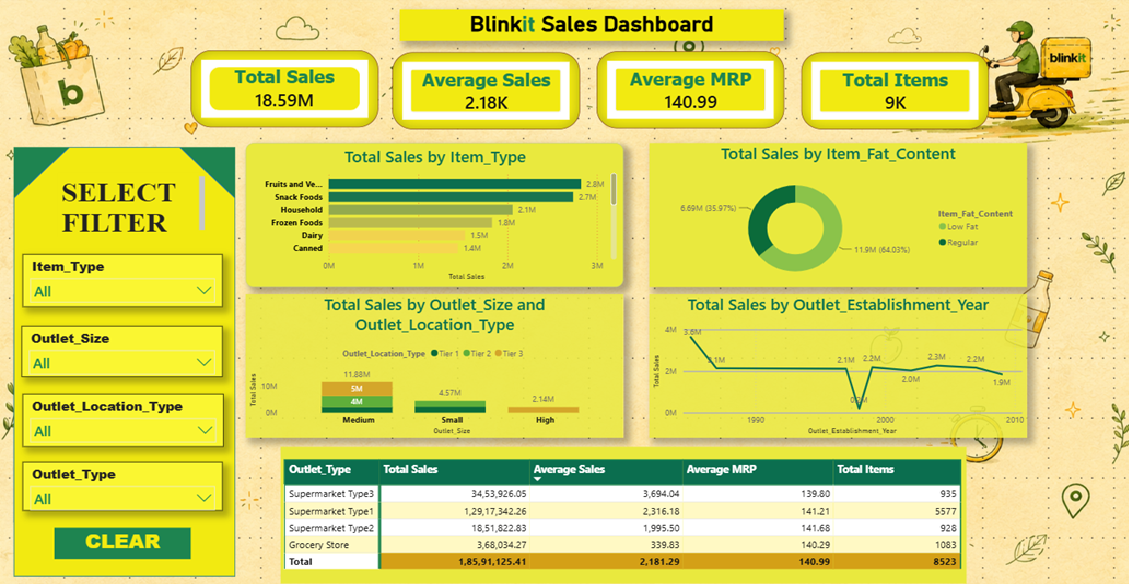

The dashboard page shown, as its layout file describes it:
{"tool":"powerbi","page":{"name":"Page 1","canvas":[1664,948],"ordinal":0},"visuals":[{"type":"cardVisual","fields":{"Data":["Measures (2).Total Sales"]},"box":[283.2,83.2,274,123.1],"z":1000},{"type":"textbox","box":[588.6,17.3,561.8,50.4],"z":2000},{"type":"cardVisual","fields":{"Data":["Measures (2).Average Sales"]},"box":[577.6,86.6,274.5,123.1],"z":3000},{"type":"cardVisual","fields":{"Data":["Measures (2).Average MRP"]},"box":[876.8,84.8,274,123.1],"z":4000},{"type":"cardVisual","fields":{"Data":["Measures (2).Total Items"]},"box":[1176,86.4,274,123],"z":5000},{"type":"clusteredBarChart","fields":{"Category":["Blinkit_cleaned.Item_Type"],"Y":["Measures (2).Total Sales"]},"box":[363.2,232,553,230],"z":6000},{"type":"donutChart","fields":{"Category":["Blinkit_cleaned.Item_Fat_Content"],"Y":["Measures (2).Total Sales"]},"box":[953.6,232,553,230],"z":7000},{"type":"columnChart","fields":{"Category":["Blinkit_cleaned.Outlet_Size"],"Series":["Blinkit_cleaned.Outlet_Location_Type"],"Y":["Measures (2).Total Sales"]},"box":[363.2,473.6,553,230],"z":8000},{"type":"lineChart","fields":{"Category":["Blinkit_cleaned.Outlet_Establishment_Year"],"Y":["Measures (2).Total Sales"]},"box":[953.6,473.6,553,230],"z":9000},{"type":"pivotTable","fields":{"Rows":["Blinkit_cleaned.Outlet_Type"],"Values":["Measures (2).Total Sales","Measures (2).Average Sales","Measures (2).Average MRP","Measures (2).Total Items"]},"box":[414.4,718.4,1003.2,219.2],"z":10000},{"type":"shape","box":[23.6,237.6,324.2,687.7],"z":11000},{"type":"slicer","fields":{"Values":["Blinkit_cleaned.Outlet_Size"]},"box":[34.6,524.1,294.3,81.8],"z":12000},{"type":"slicer","fields":{"Values":["Blinkit_cleaned.Item_Type"]},"box":[36.2,409.2,292.7,85],"z":13000},{"type":"slicer","fields":{"Values":["Blinkit_cleaned.Outlet_Location_Type"]},"box":[36.2,634.2,294.3,85],"z":14000},{"type":"slicer","fields":{"Values":["Blinkit_cleaned.Outlet_Type"]},"box":[36.2,742.8,292.7,78.7],"z":15000},{"type":"textbox","box":[88.1,280.1,220.3,102.3],"z":16000},{"type":"actionButton","title":"CLEAR","box":[83.2,848,200,50],"z":17000},{"type":"actionButton","title":"RESET","box":[1528,390.4,100,40],"z":17001}]}

Visuals, with their boxes on the page's 1664x948 design canvas (x1, y1, x2, y2). These are canvas units, not pixel positions in the 1129x584 screenshot, which may show the page scaled, cropped or inside an application window:
cardVisual - Measures (2).Total Sales: left=283, top=83, right=557, bottom=206
textbox: left=589, top=17, right=1150, bottom=68
cardVisual - Measures (2).Average Sales: left=578, top=87, right=852, bottom=210
cardVisual - Measures (2).Average MRP: left=877, top=85, right=1151, bottom=208
cardVisual - Measures (2).Total Items: left=1176, top=86, right=1450, bottom=209
clusteredBarChart - Blinkit_cleaned.Item_Type x Measures (2).Total Sales: left=363, top=232, right=916, bottom=462
donutChart - Blinkit_cleaned.Item_Fat_Content x Measures (2).Total Sales: left=954, top=232, right=1507, bottom=462
columnChart - Blinkit_cleaned.Outlet_Size x Blinkit_cleaned.Outlet_Location_Type: left=363, top=474, right=916, bottom=704
lineChart - Blinkit_cleaned.Outlet_Establishment_Year x Measures (2).Total Sales: left=954, top=474, right=1507, bottom=704
pivotTable - Blinkit_cleaned.Outlet_Type x Measures (2).Total Sales: left=414, top=718, right=1418, bottom=938
shape: left=24, top=238, right=348, bottom=925
slicer - Blinkit_cleaned.Outlet_Size: left=35, top=524, right=329, bottom=606
slicer - Blinkit_cleaned.Item_Type: left=36, top=409, right=329, bottom=494
slicer - Blinkit_cleaned.Outlet_Location_Type: left=36, top=634, right=330, bottom=719
slicer - Blinkit_cleaned.Outlet_Type: left=36, top=743, right=329, bottom=822
textbox: left=88, top=280, right=308, bottom=382
"CLEAR" actionButton: left=83, top=848, right=283, bottom=898
"RESET" actionButton: left=1528, top=390, right=1628, bottom=430
